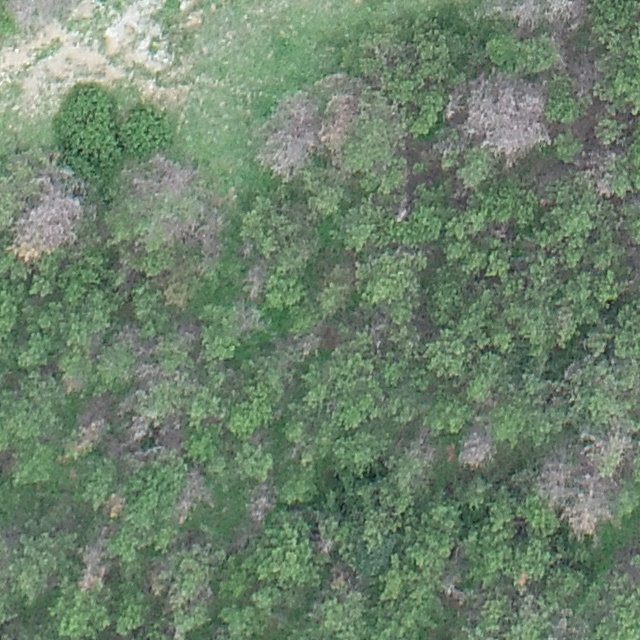unhealthy: (463, 68, 552, 164), (12, 177, 84, 259), (256, 94, 320, 177), (127, 152, 195, 198), (564, 483, 611, 538), (535, 447, 576, 509), (185, 206, 229, 258), (175, 462, 213, 522), (578, 142, 617, 194), (77, 535, 111, 593), (559, 48, 600, 96), (324, 90, 359, 146), (7, 1, 66, 29), (544, 0, 591, 32), (459, 429, 495, 470), (402, 429, 441, 466), (245, 480, 278, 523), (547, 608, 591, 639), (75, 418, 109, 453), (508, 0, 543, 34), (243, 260, 272, 300), (160, 213, 194, 246), (325, 563, 362, 592), (142, 555, 170, 593), (78, 394, 114, 422), (233, 302, 263, 333), (368, 308, 391, 348), (123, 414, 152, 445), (173, 320, 202, 347), (440, 88, 465, 119), (132, 360, 164, 384), (103, 493, 128, 518)
